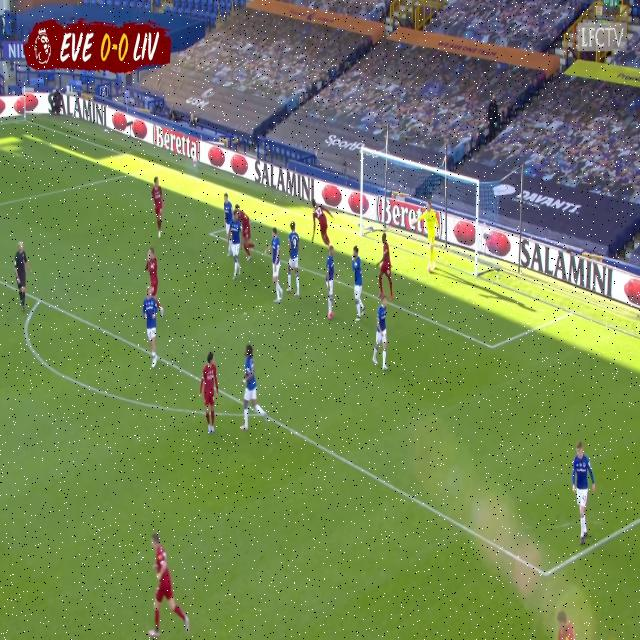GoalKeeper: (417, 198, 443, 274)
TEAM 1: (149, 529, 192, 640), (198, 352, 222, 433), (374, 231, 400, 303), (143, 249, 167, 316), (305, 197, 334, 252), (236, 198, 258, 262), (149, 174, 166, 242), (556, 608, 576, 640)
TEAM 2: (568, 441, 598, 545), (238, 342, 270, 427), (141, 284, 166, 366), (347, 244, 367, 317), (374, 290, 391, 372), (226, 210, 244, 282), (269, 228, 285, 305), (288, 216, 302, 302), (324, 243, 336, 320), (223, 193, 233, 242)
